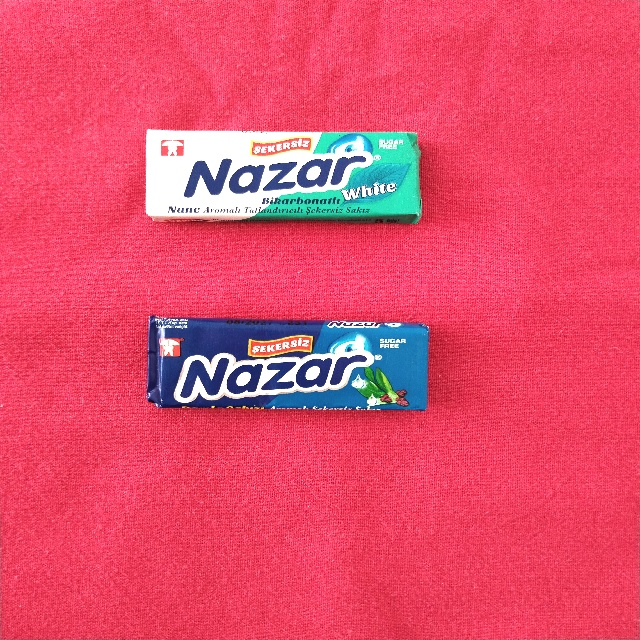nazar_damla_sakizli_sakiz: (147, 317, 428, 410)
nazar_naneli_sakiz: (147, 130, 422, 223)
